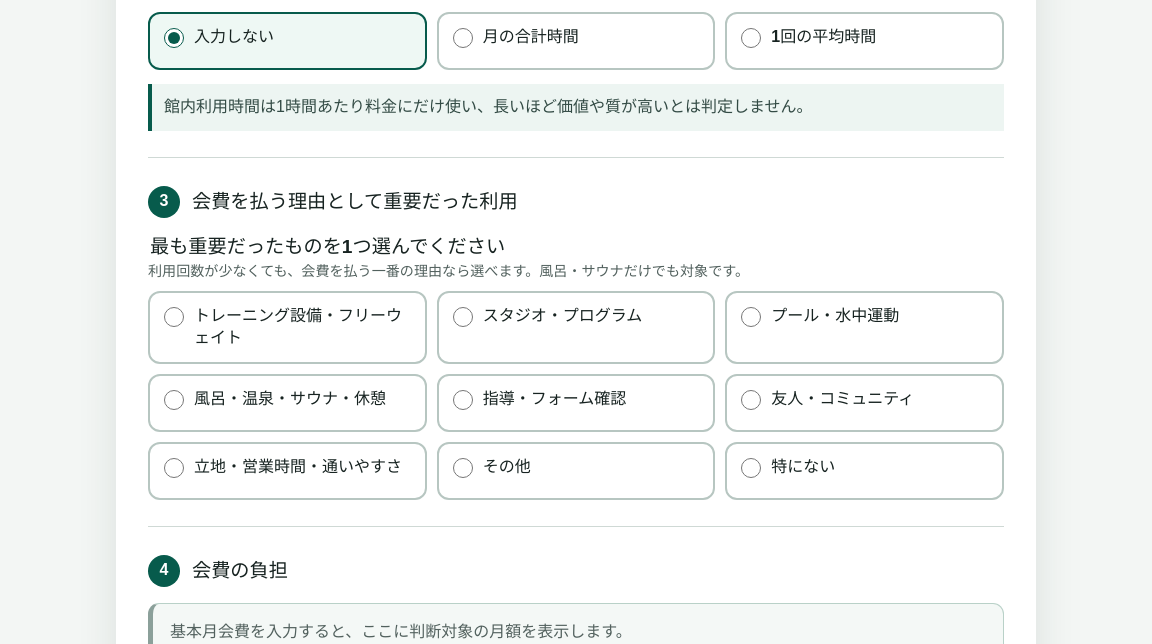
GFR-G1R9 Calculator › 最重要項目を選び直しても補助を自動選択せず、明示選択数だけで上限を制御する
(page scrolled)
Click the radio button labelled "トレーニング設備・フリーウェイト" at (174, 317), box [164,307,184,327]
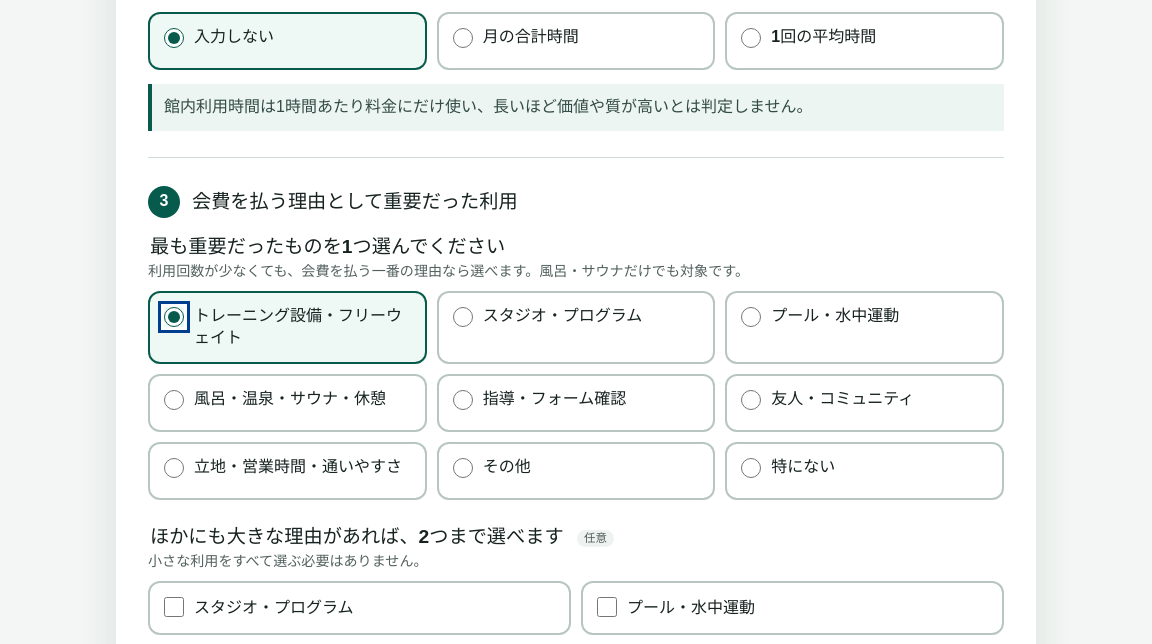
Press Arrowright
(page scrolled)
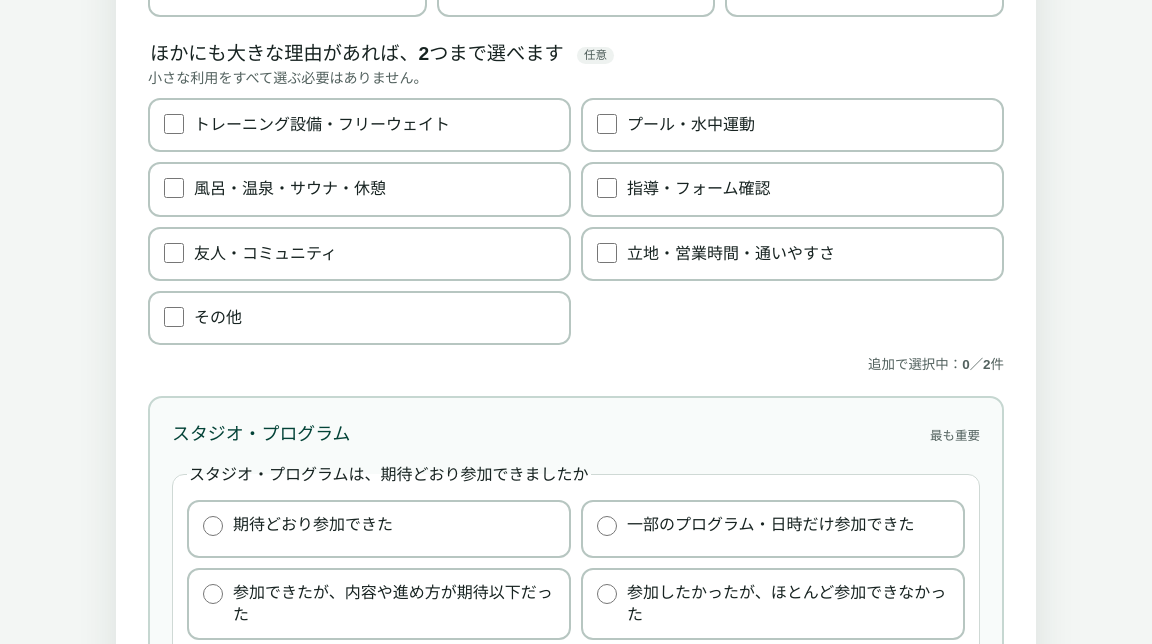
Expected: the text "追加で選択中：0／2件" is shown, [868,357,1004,372]
Expected: the checkbox labelled "トレーニング設備・フリーウェイト" is not checked, [164,114,184,134]
Expected: the checkbox labelled "トレーニング設備・フリーウェイト" is enabled, [164,114,184,134]
Press Arrowright
(page scrolled)
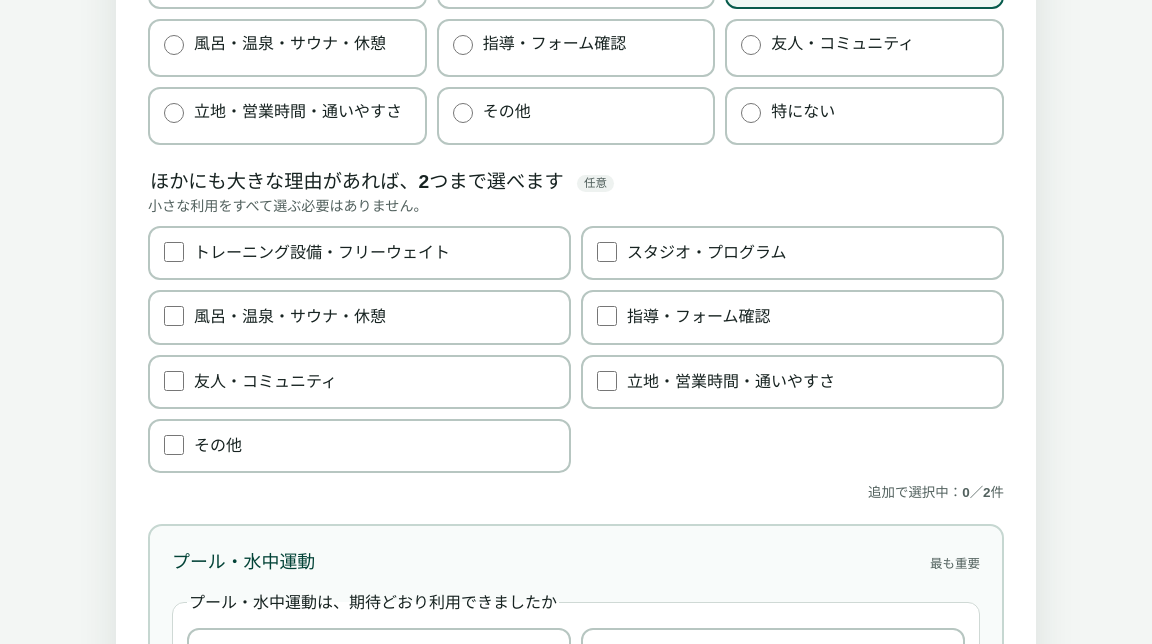
Expected: the checkbox labelled "トレーニング設備・フリーウェイト" is not checked, [164,242,184,262]
Expected: the checkbox labelled "トレーニング設備・フリーウェイト" is enabled, [164,242,184,262]
Expected: the checkbox labelled "スタジオ・プログラム" is not checked, [597,242,617,262]
Click the checkbox labelled "風呂・温泉・サウナ・休憩" at (174, 316), box [164,306,184,326]
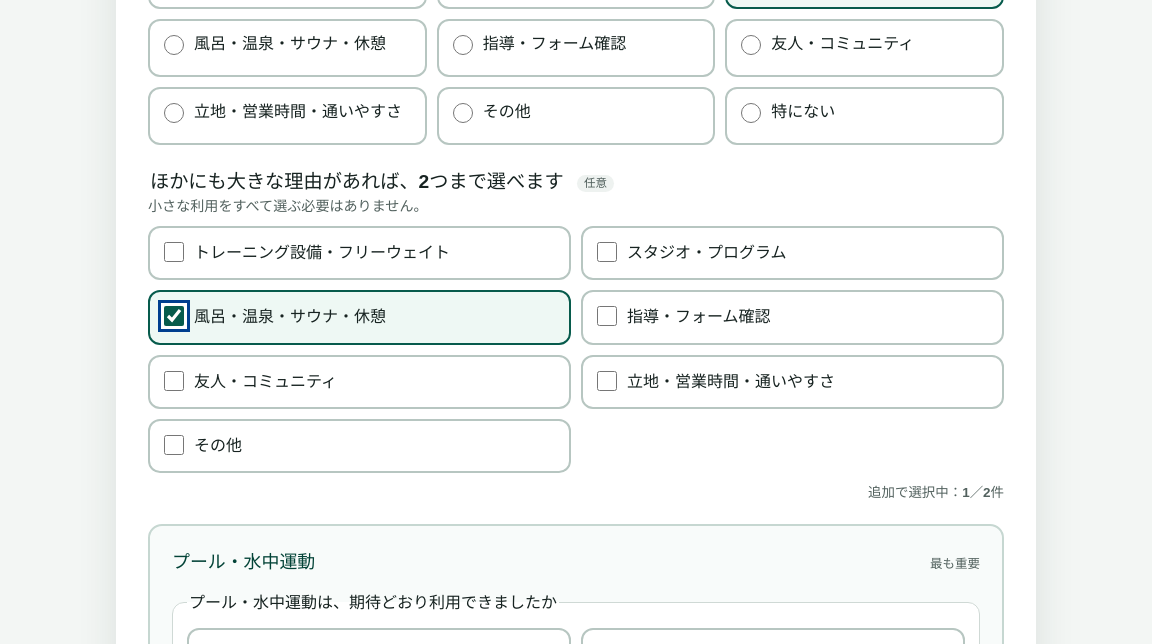
Click the checkbox labelled "指導・フォーム確認" at (607, 316), box [597,306,617,326]
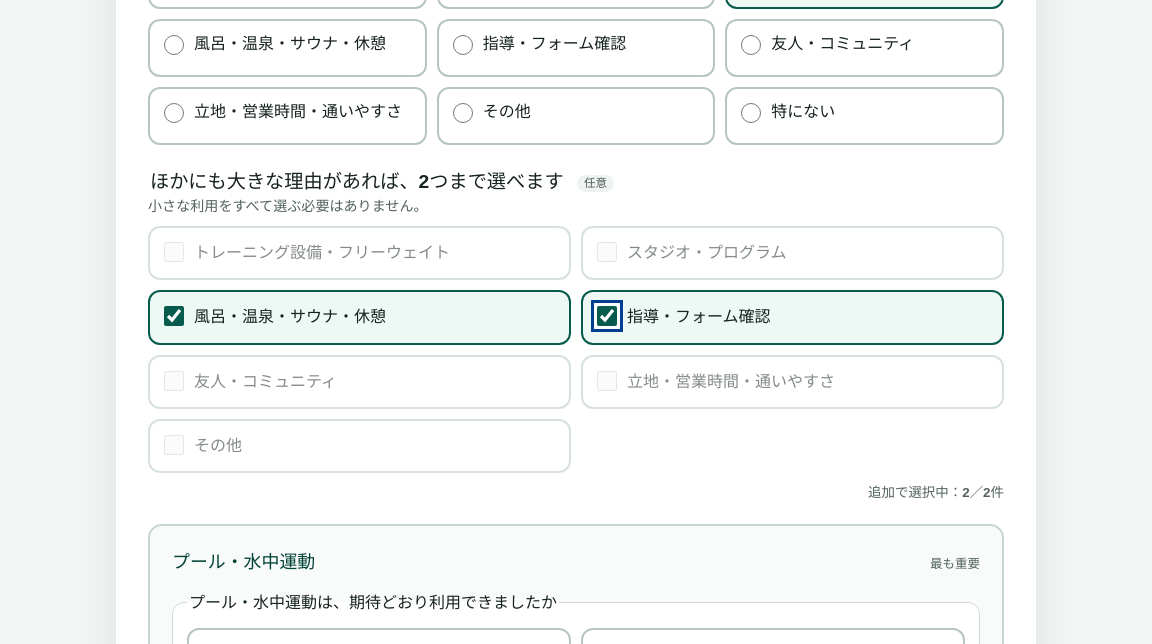
Expected: the text "追加で選択中：2／2件" is shown, [868,485,1004,500]
Expected: the checkbox labelled "友人・コミュニティ" is disabled, [164,370,184,390]
Click the radio button labelled "風呂・温泉・サウナ・休憩" at (174, 45), box [164,35,184,55]
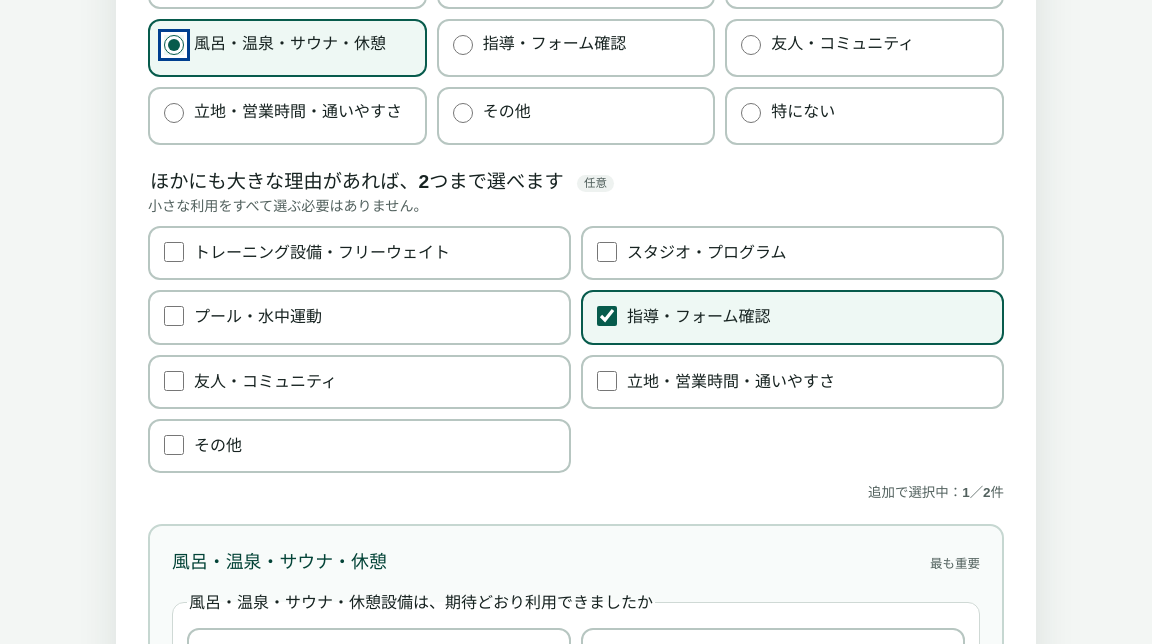
Expected: the checkbox labelled "指導・フォーム確認" is checked, [597,306,617,326]
Expected: the checkbox labelled "トレーニング設備・フリーウェイト" is not checked, [164,242,184,262]
Expected: the text "追加で選択中：1／2件" is shown, [868,485,1004,500]
